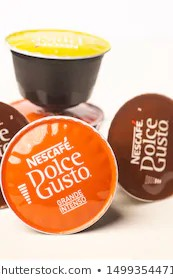nescafe-dolce: (1, 123, 120, 233), (8, 18, 115, 103), (106, 94, 173, 199)
